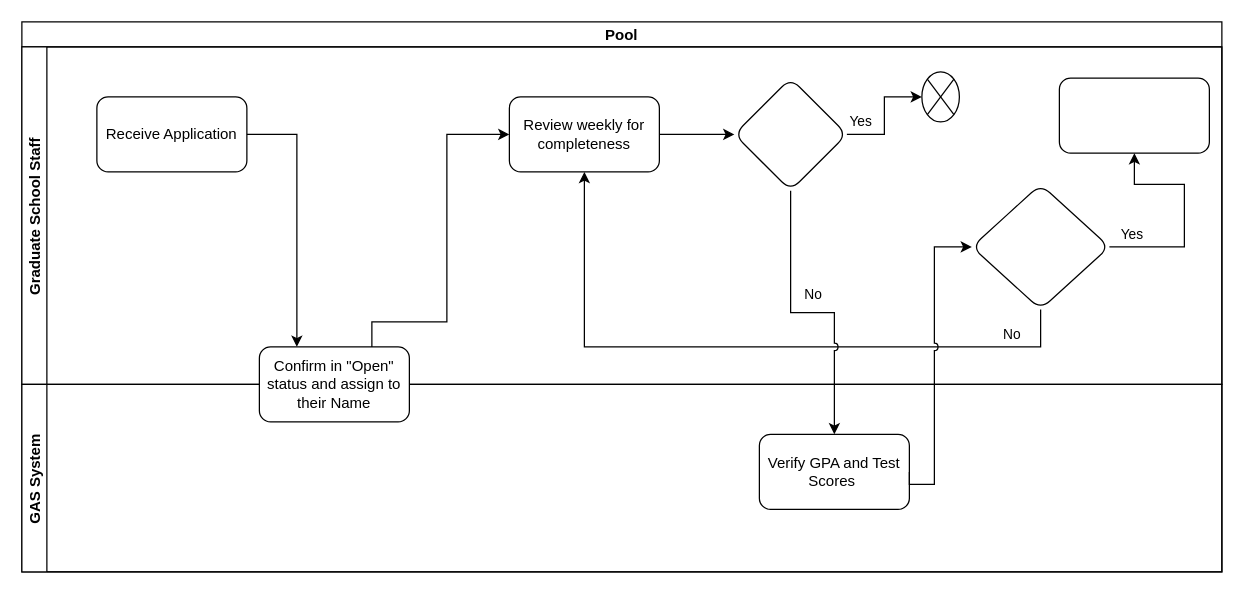
Image size: 1244x594. Some labels were removed from this diagram. Each missing label, with the centre of its shape:
Are all required items submitted?: point 1040,246
Canceled/ Decided?: point 790,134
Sets status to "Ready to Be Evaluated: point 1133,115
